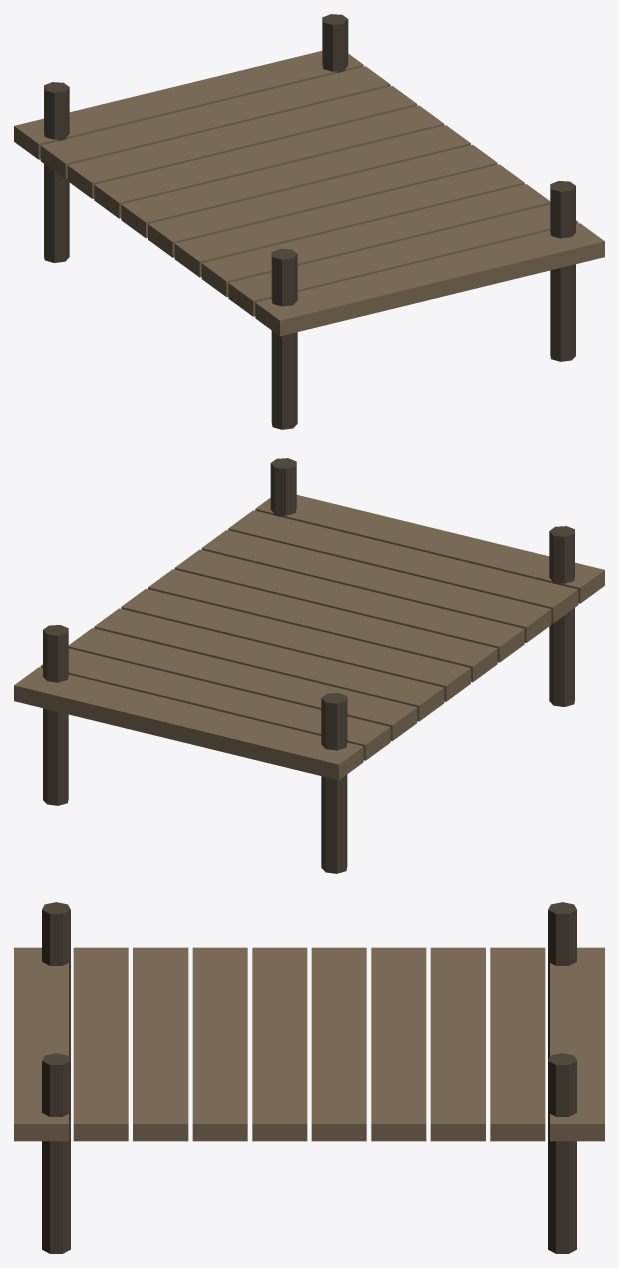
The model's file is ENV_Module_06_Dock.glb.
3 views of the same model, one above another, from view 1: azimuth 30°, elevation 25°; view 2: azimuth 150°, elevation 25°; view 3: azimuth 270°, elevation 25° (orthographic). The views are drawn at different scales.
Parts seen in each view (by area): view 1: ENV_Module_06_Dock; view 2: ENV_Module_06_Dock; view 3: ENV_Module_06_Dock.
Boxes of the visible parts, x1=… form: ENV_Module_06_Dock: x1=14, y1=14, x2=604, y2=429; ENV_Module_06_Dock: x1=14, y1=458, x2=604, y2=873; ENV_Module_06_Dock: x1=14, y1=902, x2=604, y2=1253.
Size of the model in its own units: 2.8 by 1.4 by 3.97.
